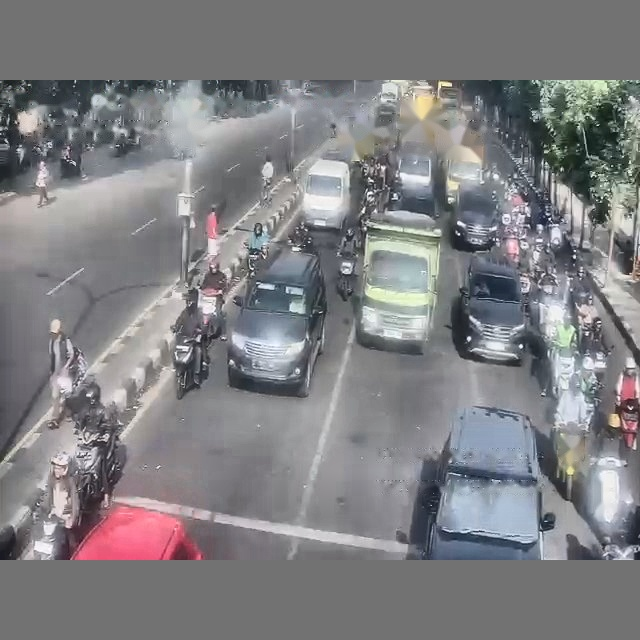Mobil: (422, 406, 554, 559), (227, 251, 326, 396), (438, 406, 540, 484), (71, 504, 203, 560), (459, 254, 526, 364), (452, 187, 498, 249)
Motor: (74, 409, 122, 511), (586, 455, 635, 540), (551, 423, 588, 501), (173, 333, 201, 399), (33, 515, 69, 560), (551, 348, 576, 398), (198, 288, 222, 337), (619, 399, 639, 450), (337, 252, 355, 300), (247, 249, 266, 278), (260, 177, 272, 207)
Truk: (356, 210, 441, 352)
